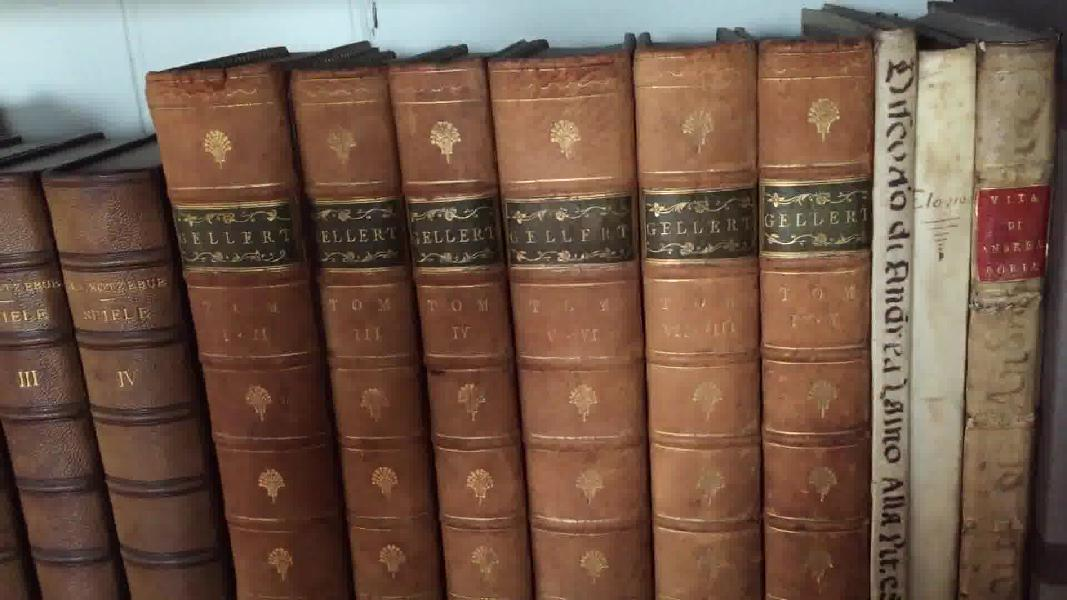Aa6-18_23: (136, 24, 874, 600)
Aa6-24: (869, 1, 913, 600)
Aa6-25: (909, 28, 975, 600)
Aa6-26: (951, 29, 1067, 600)
